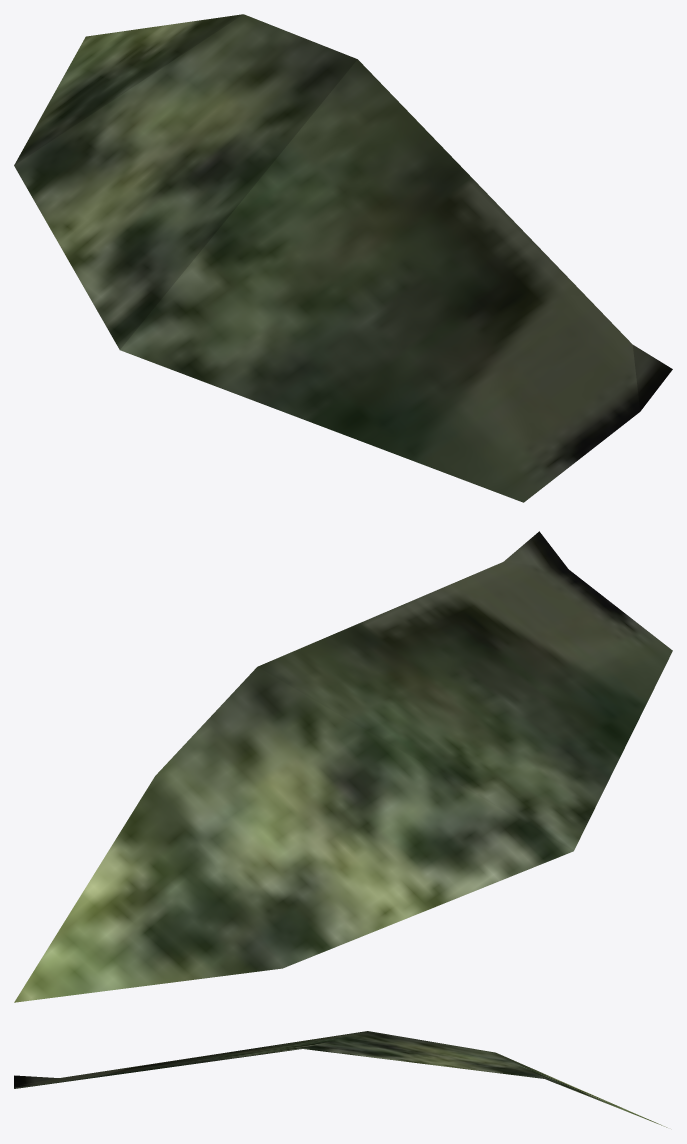
3 renders of one model, top to bottom at view 1: azimuth 30°, elevation 25°; view 2: azimuth 150°, elevation 25°; view 3: azimuth 270°, elevation 25°, orthographic. The views are drawn at different scales.
Bounding box in the file's own units: 1.75 × 0.9958 × 6.01.
Materials: 1 (1 with a texture image).
